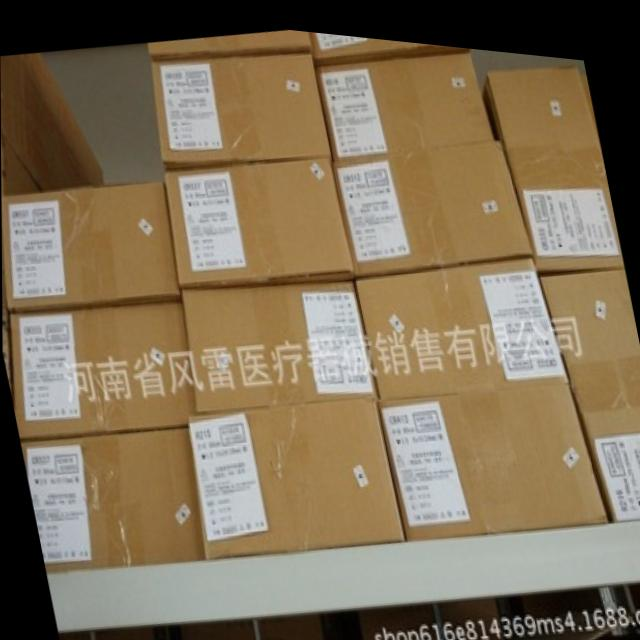box: (378, 362, 610, 531), (185, 390, 405, 553), (356, 244, 564, 393), (334, 132, 531, 274), (21, 424, 203, 570), (8, 299, 196, 438), (182, 273, 376, 405), (165, 154, 352, 282), (2, 179, 180, 311), (154, 47, 329, 162), (317, 44, 493, 154), (505, 134, 623, 260), (0, 53, 102, 190), (567, 340, 640, 508), (540, 254, 640, 357), (481, 54, 599, 134), (309, 25, 470, 57), (149, 24, 313, 55), (1, 133, 42, 200)
